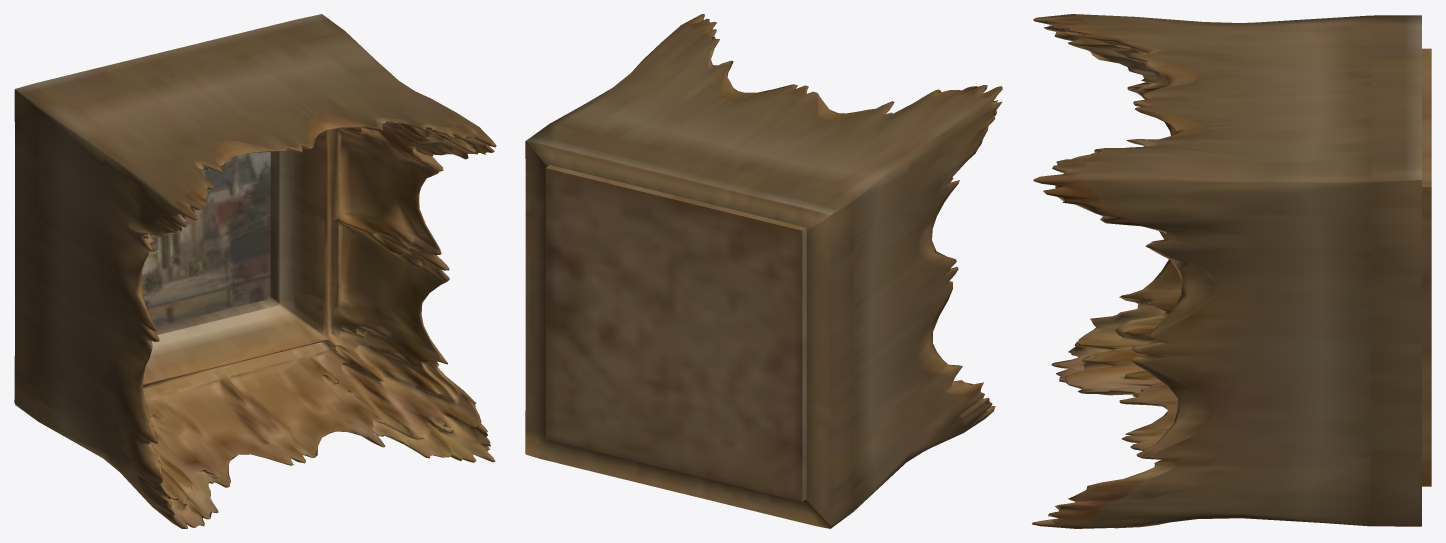
File: ph-fancy-picture-frame-02.glb
The picture shows the model from 3 angles, left to right: view 1: azimuth 30°, elevation 25°; view 2: azimuth 150°, elevation 25°; view 3: azimuth 270°, elevation 25°; orthographic projection. The views are drawn at different scales.
Visible parts, largest first — view 1: fancy_picture_frame_02, fancy_picture_frame_02_canvas; view 2: fancy_picture_frame_02; view 3: fancy_picture_frame_02.
Boxes of the visible parts, x1,y1,x2,y2 form: fancy_picture_frame_02: (14, 14, 496, 528); fancy_picture_frame_02_canvas: (142, 152, 270, 326); fancy_picture_frame_02: (525, 14, 1002, 528); fancy_picture_frame_02: (1032, 14, 1431, 528).
Size of the model in its own units: 1 by 1 by 1.
Materials: 2 (2 with a texture image).
